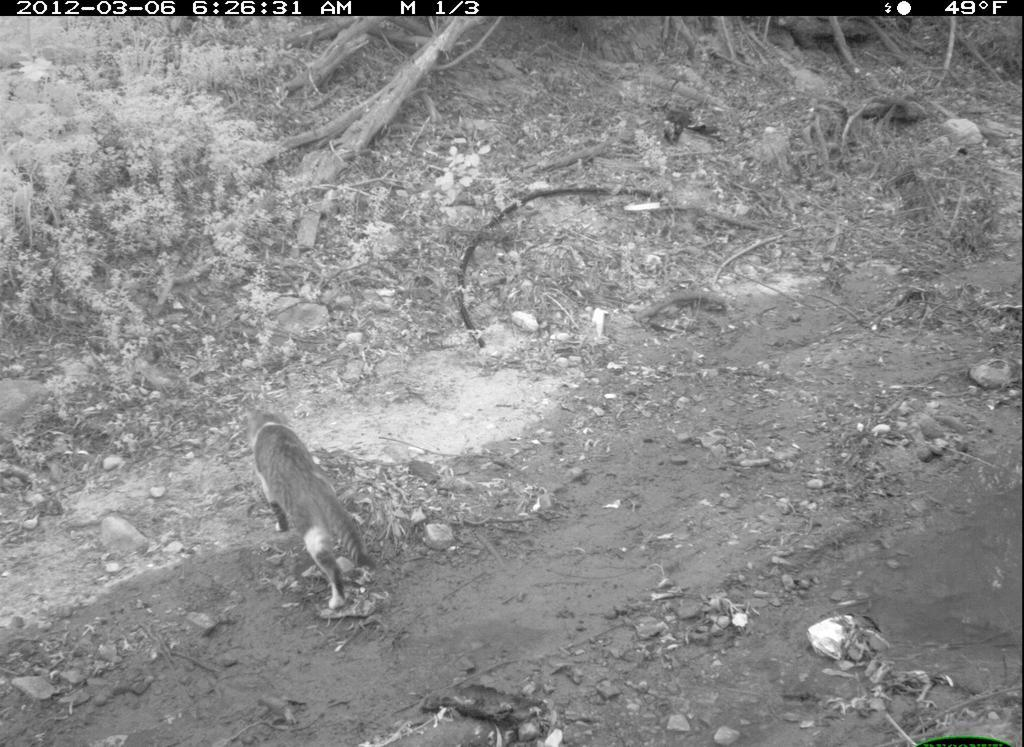cat: (233, 390, 385, 624)
